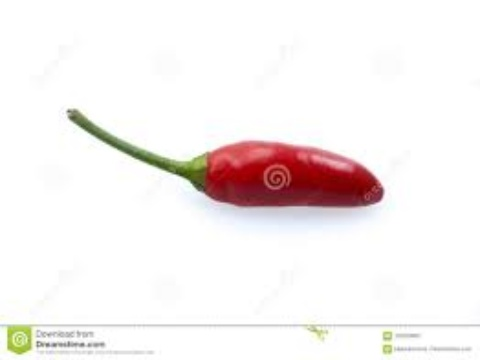Chilli: (53, 92, 413, 216)
